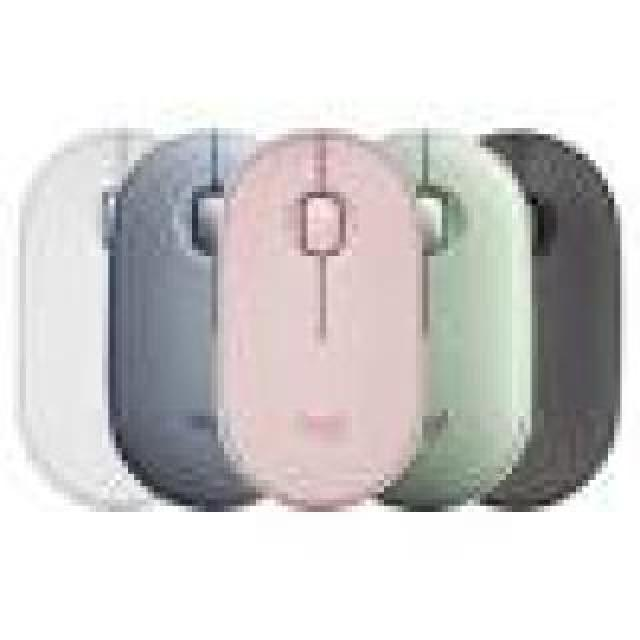mouse: (225, 114, 413, 528), (415, 110, 525, 553), (525, 121, 623, 586), (23, 121, 122, 552), (127, 142, 235, 515)
